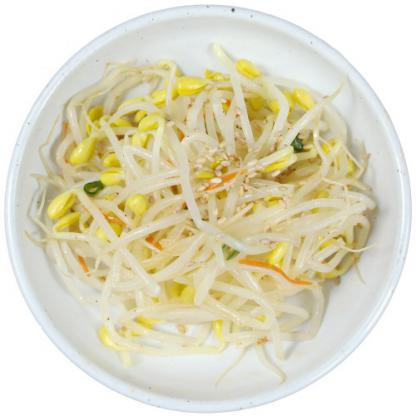bean sprouts: (53, 75, 357, 320)
